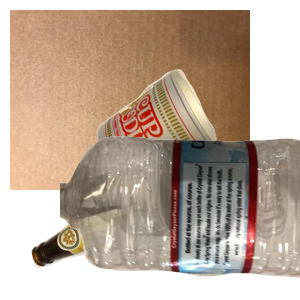cardboard: (10, 10, 250, 190)
glass: (29, 150, 238, 300)
plastic: (60, 134, 300, 300)
trash: (95, 67, 300, 238)
